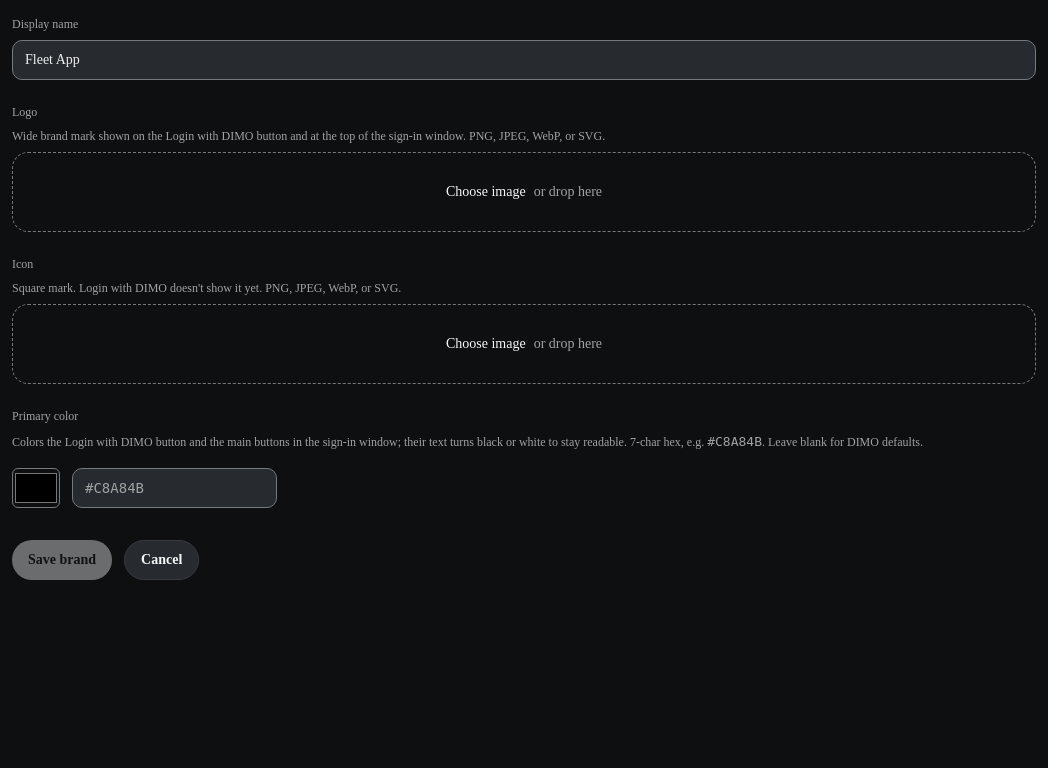
it: BrandForm › warns, without blocking, when the color is hard to see in the sign-in window
This screenshot has width=1048, height=768.
Type "#FFE066" into the field with placeholder "#C8A84B" at (174, 488), box x1=85 y1=478 x2=264 y2=498
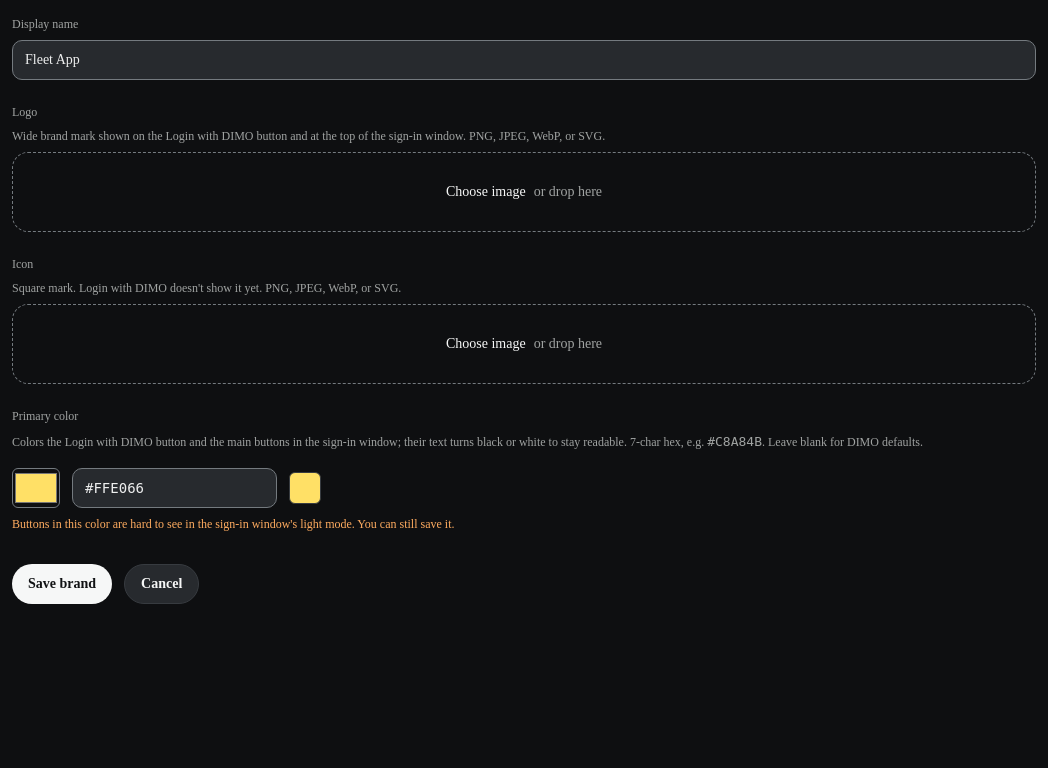
Expected: the text "Save brand" is enabled, x1=28 y1=574 x2=96 y2=594
Replace the text in the field with placeholder "#C8A84B" with "#000000" at (174, 488), box x1=85 y1=478 x2=264 y2=498
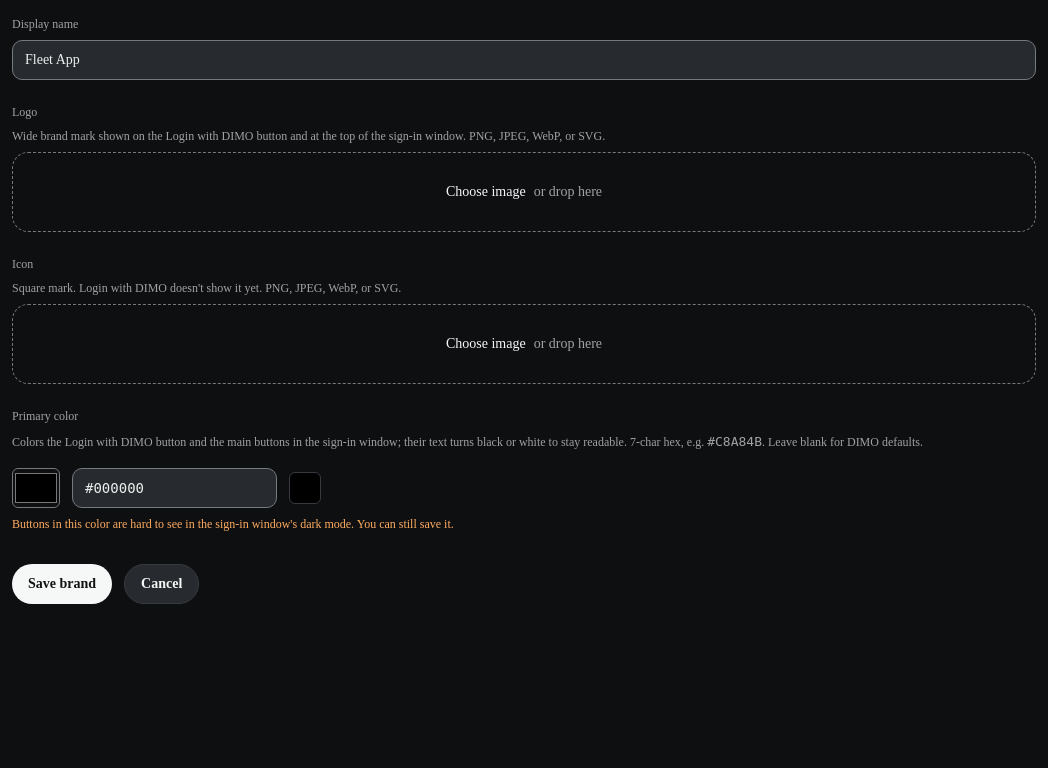
Expected: the message shows "dark mode", x1=12 y1=517 x2=454 y2=531
Replace the text in the field with placeholder "#C8A84B" with "#3366CC" at (174, 488), box x1=85 y1=478 x2=264 y2=498
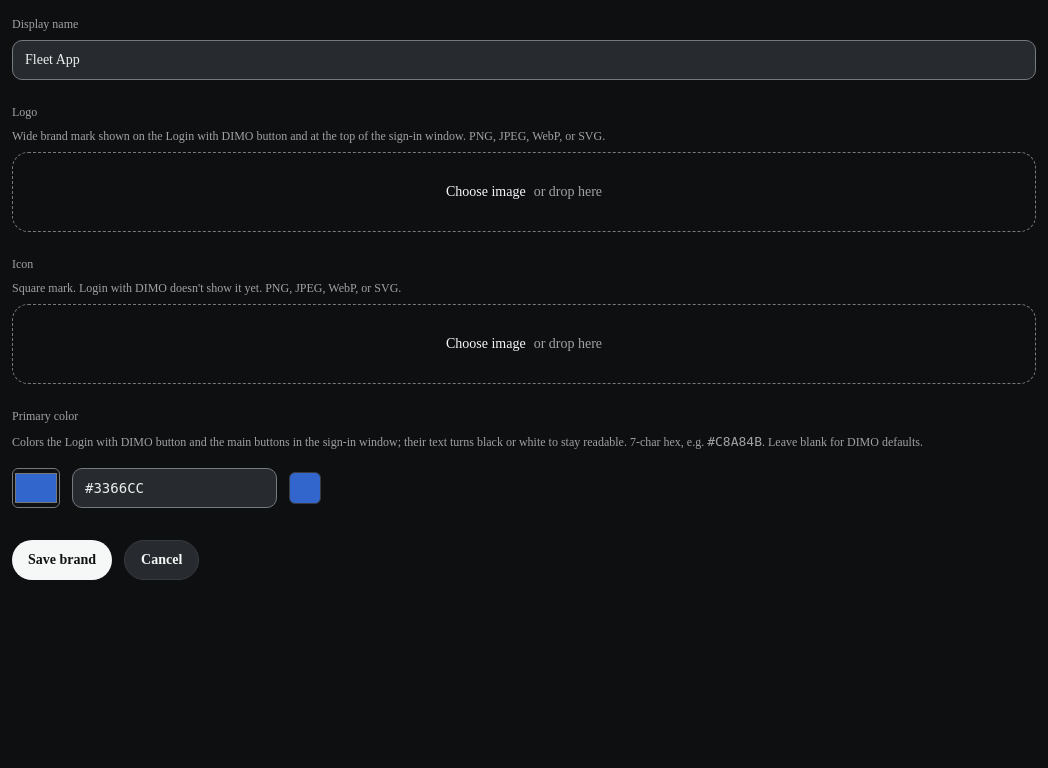
Expected: the message is gone
